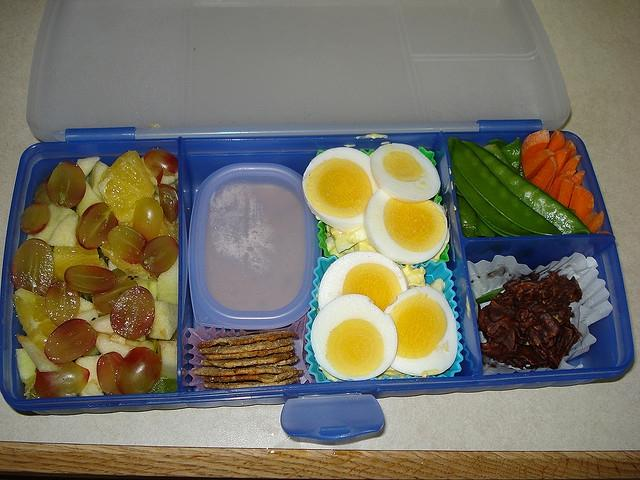carrot: (522, 148, 556, 182), (568, 183, 594, 221), (521, 130, 550, 164), (530, 157, 558, 191), (554, 148, 573, 180), (558, 178, 574, 208), (546, 130, 566, 152), (586, 212, 605, 234), (548, 176, 563, 200), (580, 212, 598, 226), (565, 140, 577, 160), (572, 170, 586, 185)
grape: (11, 237, 55, 296), (44, 318, 97, 364), (110, 286, 155, 340), (116, 346, 162, 394), (34, 361, 90, 398), (75, 202, 118, 250), (47, 162, 86, 208), (44, 281, 80, 327), (106, 225, 148, 264), (91, 280, 138, 314), (64, 265, 118, 294), (140, 235, 178, 274), (132, 198, 164, 241), (144, 149, 178, 185), (96, 352, 124, 395), (20, 203, 51, 235), (158, 183, 178, 223), (34, 176, 52, 206)
pea: (461, 140, 592, 235), (449, 156, 544, 236), (483, 144, 522, 176), (456, 194, 481, 238), (500, 136, 522, 172), (474, 216, 496, 237)
